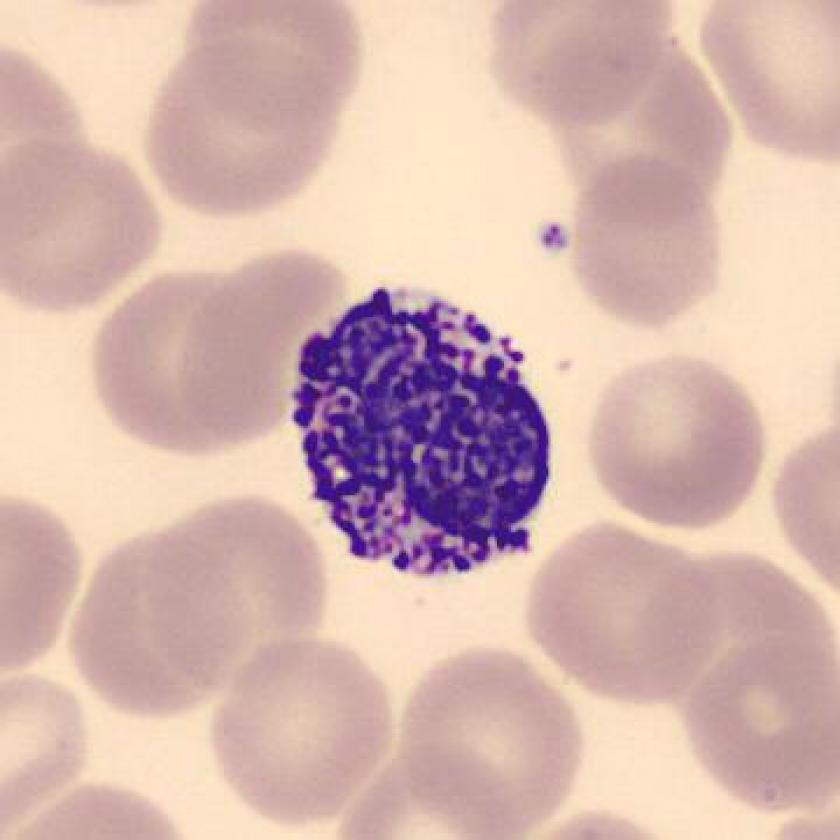basophil: (284, 274, 571, 591)
